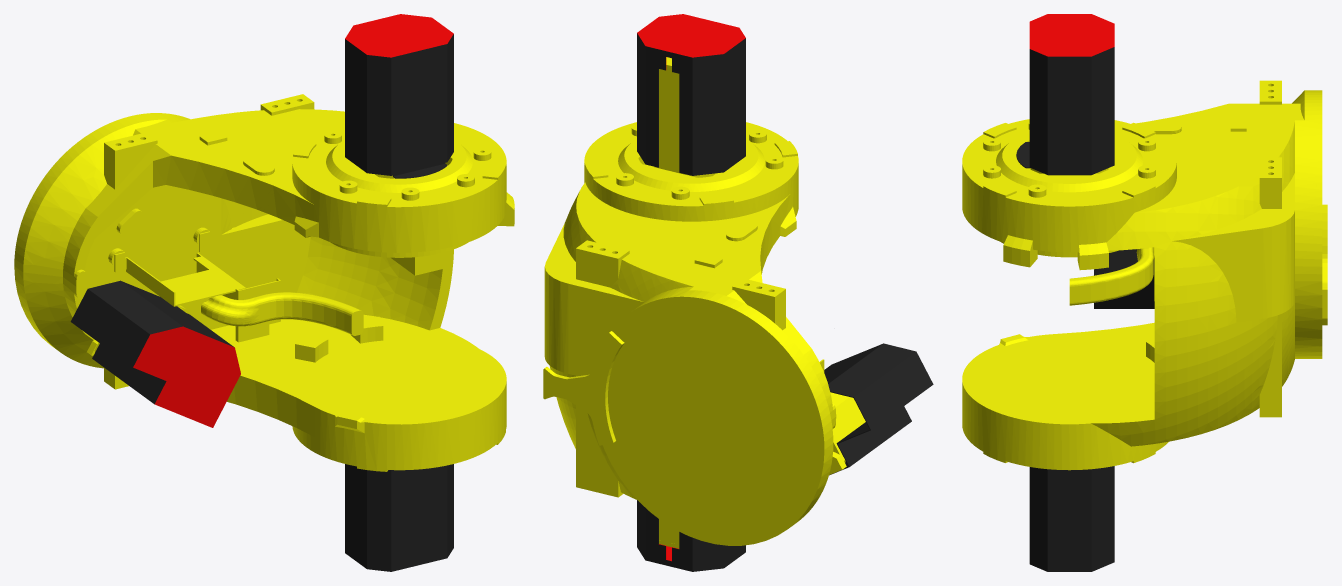
3 views of the same model, side by side, from view 1: azimuth 30°, elevation 25°; view 2: azimuth 150°, elevation 25°; view 3: azimuth 270°, elevation 25° (orthographic).
Parts seen in each view (by area): view 1: node; view 2: node; view 3: node.
Boxes of the visible parts, bbox=[...] form: node: bbox=[14, 14, 514, 571]; node: bbox=[543, 14, 933, 571]; node: bbox=[962, 14, 1327, 571].
Bounding box in the file's own units: 927 × 1271 × 817.
